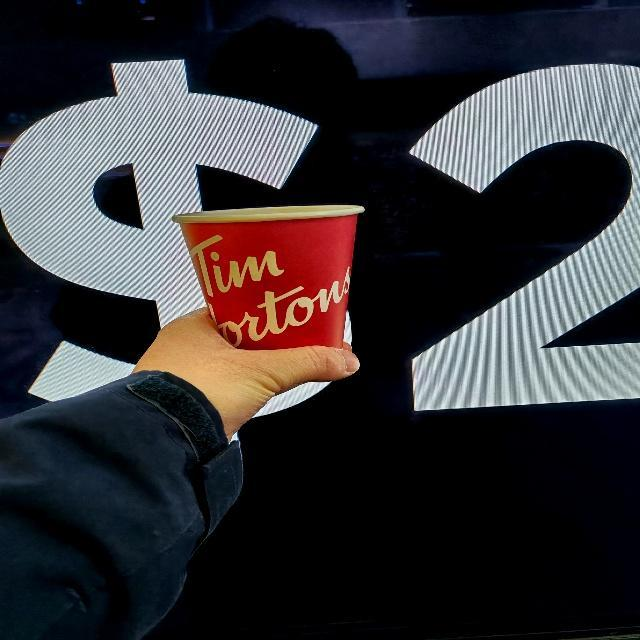timmies: (176, 197, 370, 370)
